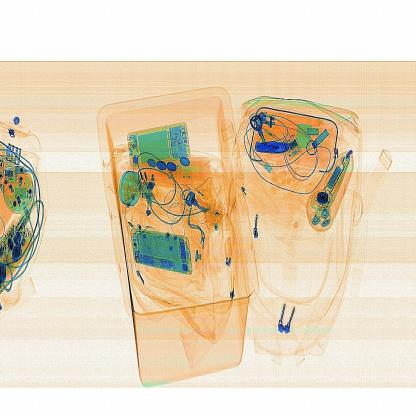knife: (250, 134, 301, 159)
